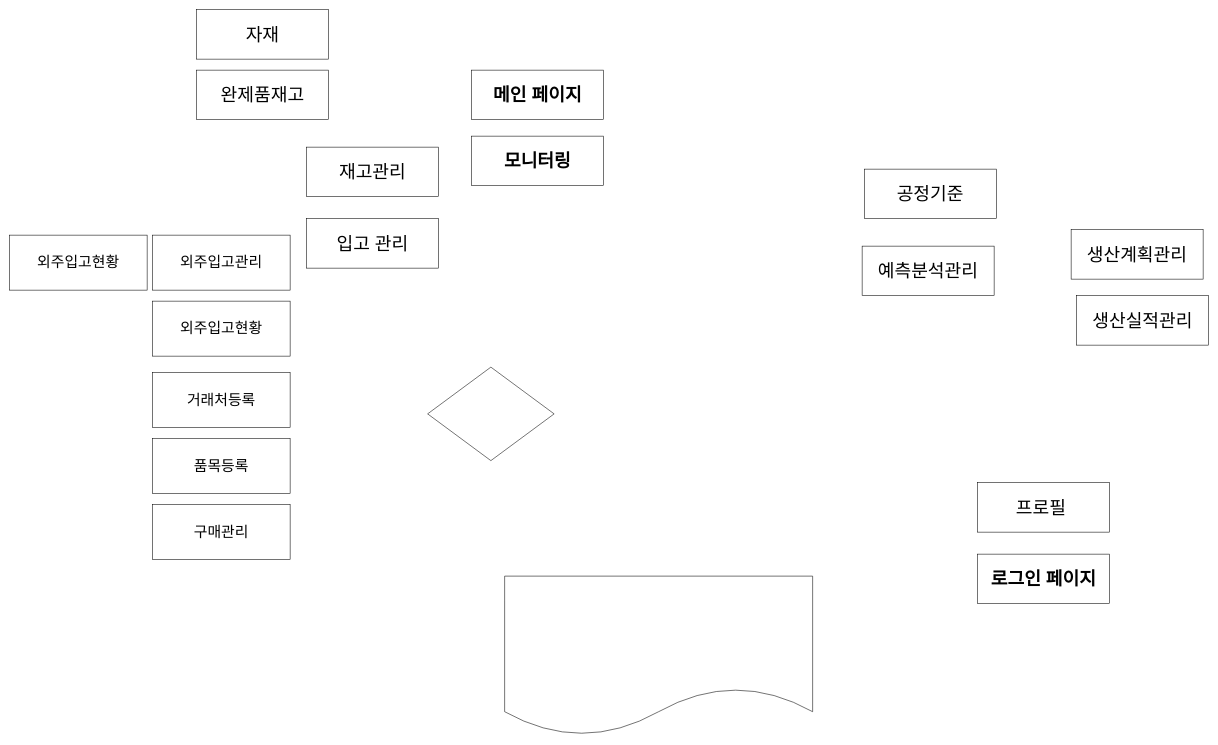
The diagram is 1218 pixels wide and 745 high, and some of its shapes have lost their labels. Each missing label, with the box of its shape:
구민 : 메인 , 모니터링 민영 : 프로필 , 로그인 , 모니터링 은별 : 재고 , 입고 의건 : 공정, 예측 지훈 : 생산계획, 생산실적: (504, 576, 813, 736)
아이디 분류/유무: (427, 367, 554, 461)
